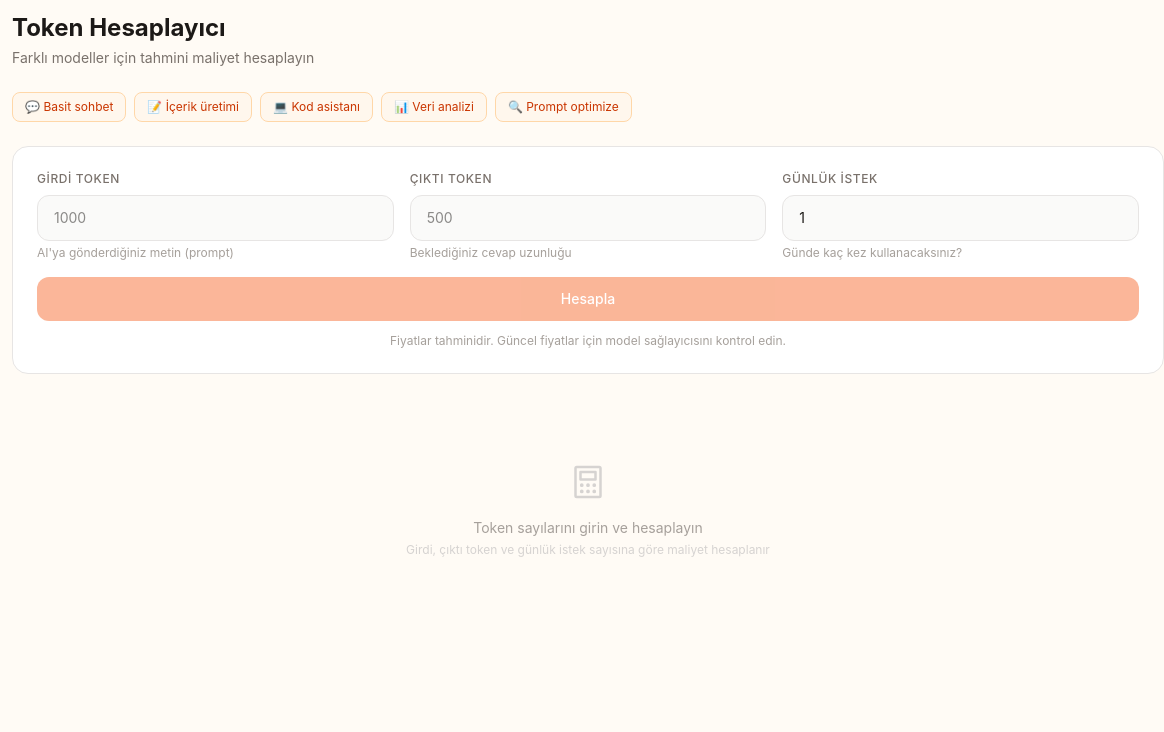
Test: Calculator — senaryo butonları › Basit sohbet butonuna tıklayınca girdi 500, çıktı 300 olmalı
This screenshot has width=1164, height=732.
Step 1. Click the button "💬 Basit sohbet" → [69, 107], box x1=12 y1=92 x2=126 y2=122
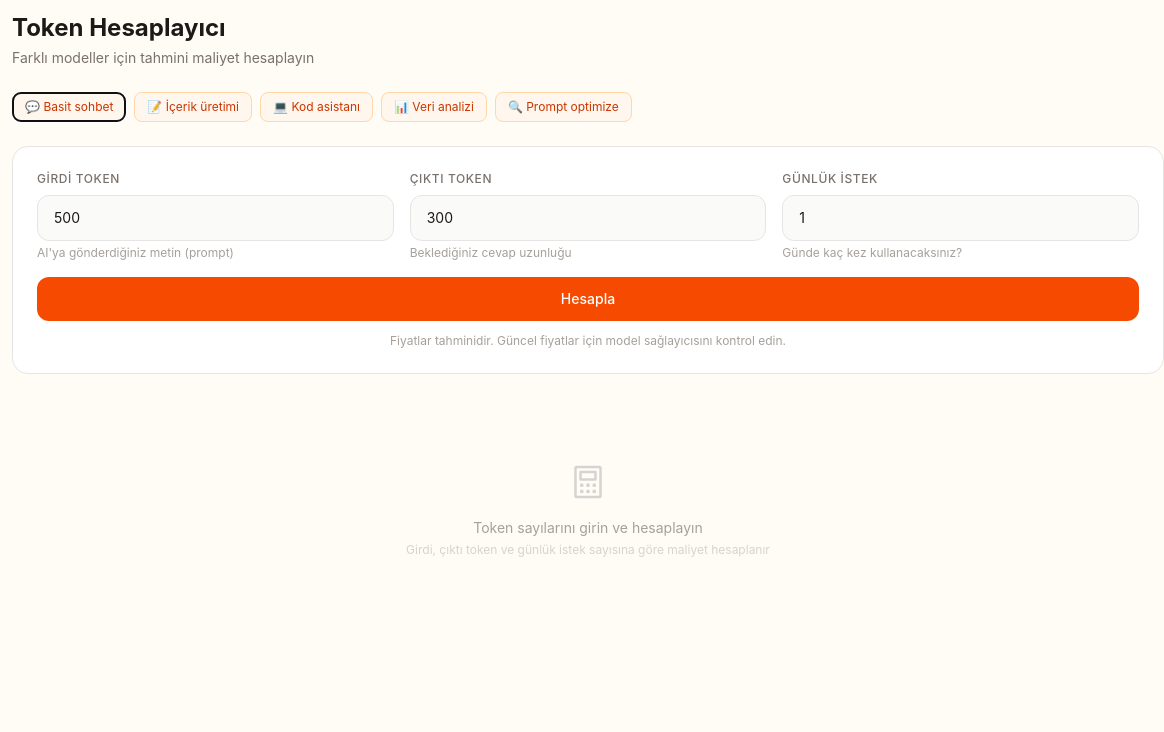
Now the number field with placeholder "1000" below "GİRDİ TOKEN" holds "500", box x1=37 y1=195 x2=394 y2=241
Now the number field with placeholder "500" below "ÇIKTI TOKEN" holds "300", box x1=410 y1=195 x2=766 y2=241
